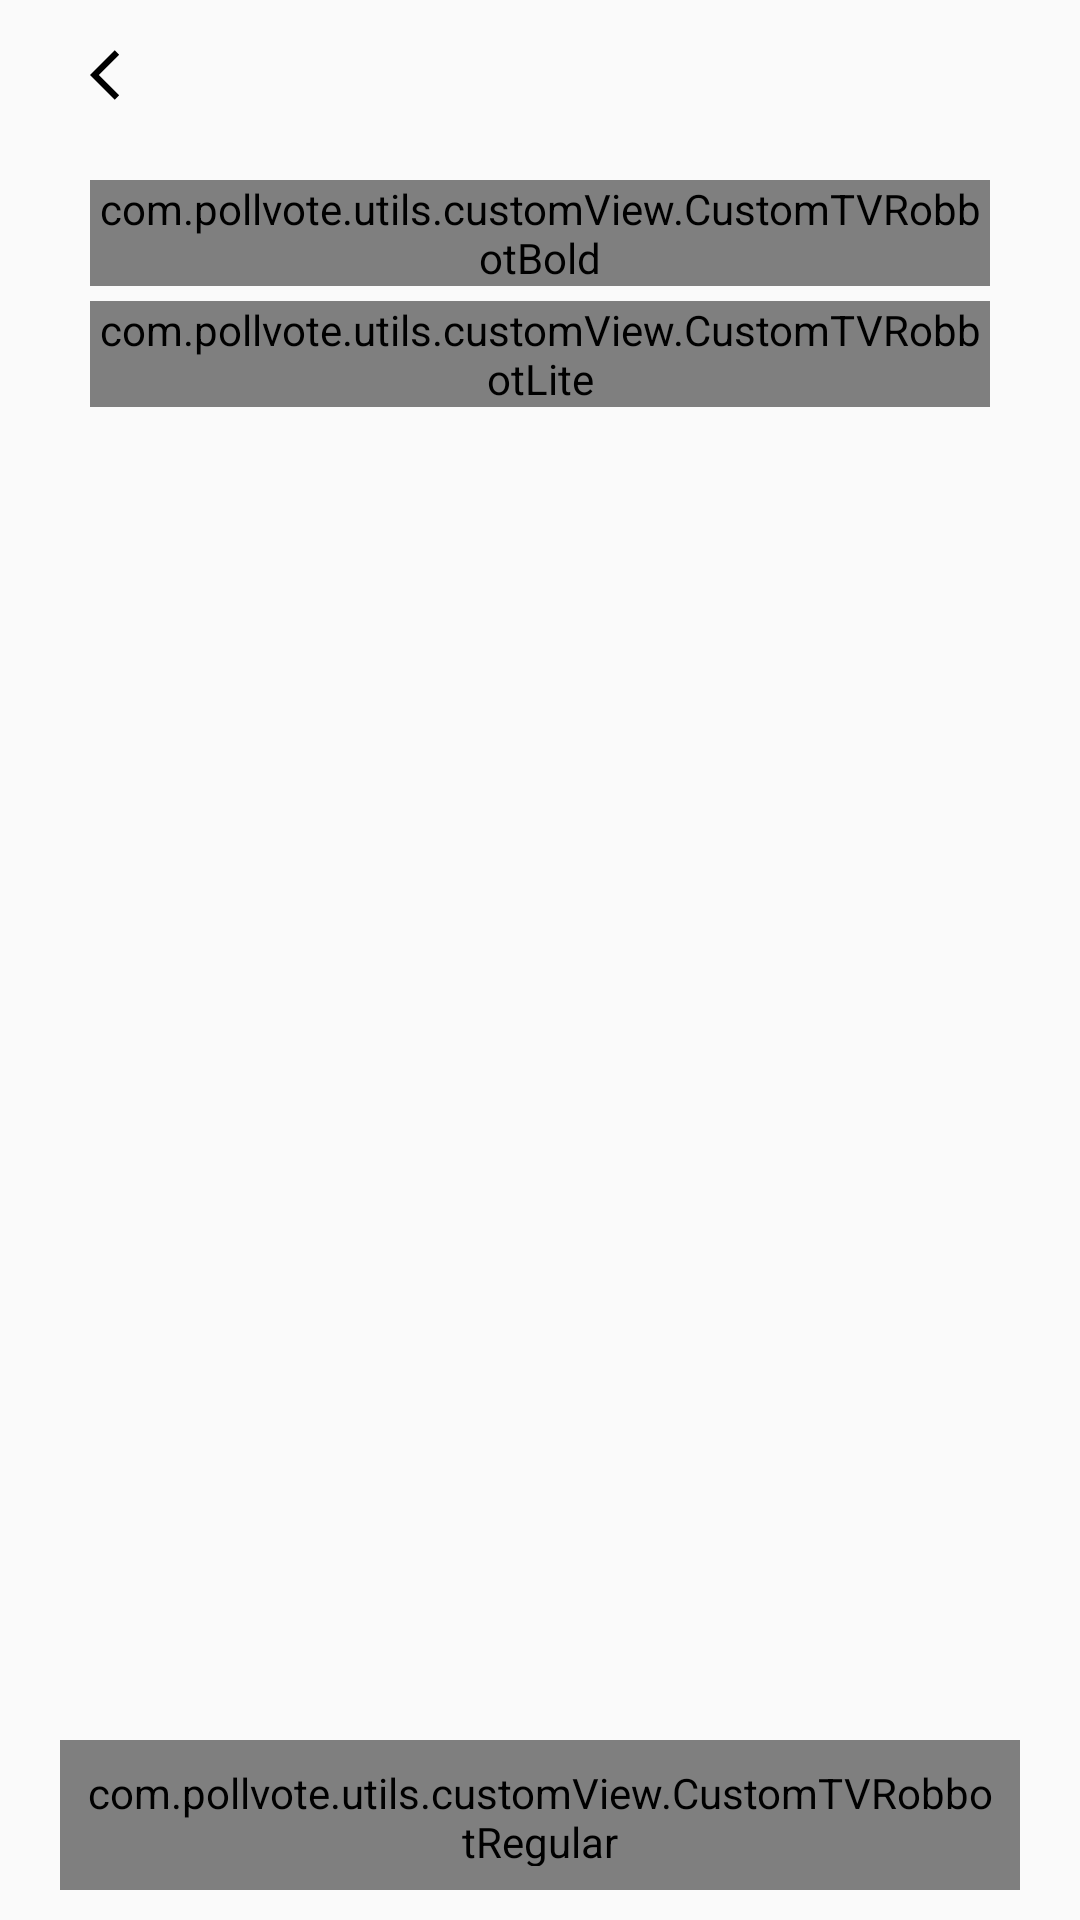

Icons on this 1080 × 1920 Android screen, each with its box as (x1, y1, x2, y2):
back: (90, 50, 119, 100)
